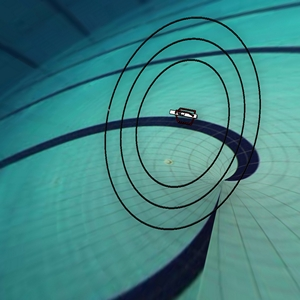circle: (86, 9, 273, 235)
submarine: (153, 93, 203, 134)
